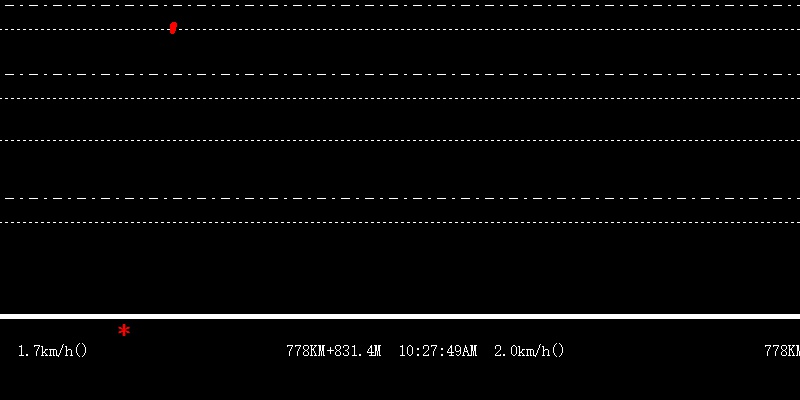face_1: (167, 19, 178, 38)
star: (114, 321, 133, 338)
